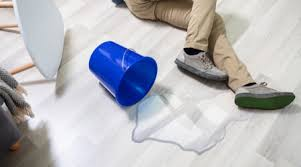Wet-floor: (127, 95, 242, 152)
